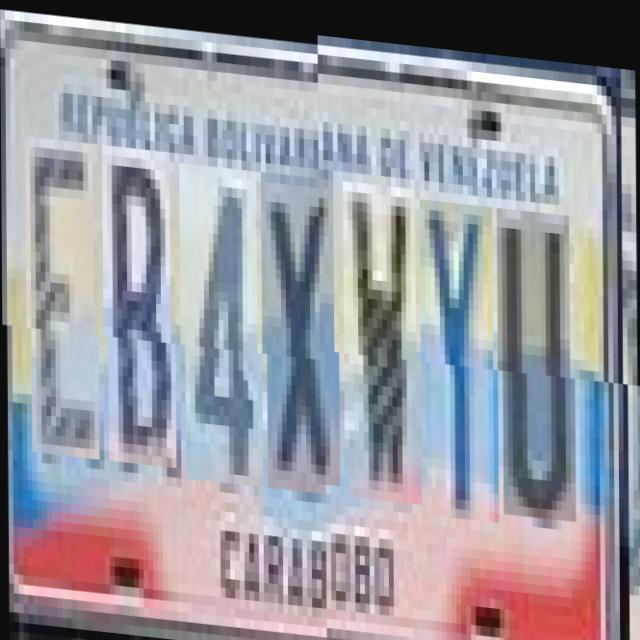4: (184, 159, 263, 482)
B: (106, 143, 176, 464)
E: (30, 136, 99, 458)
U: (502, 206, 576, 518)
W: (348, 183, 422, 504)
X: (266, 167, 340, 488)
Y: (424, 200, 498, 520)
